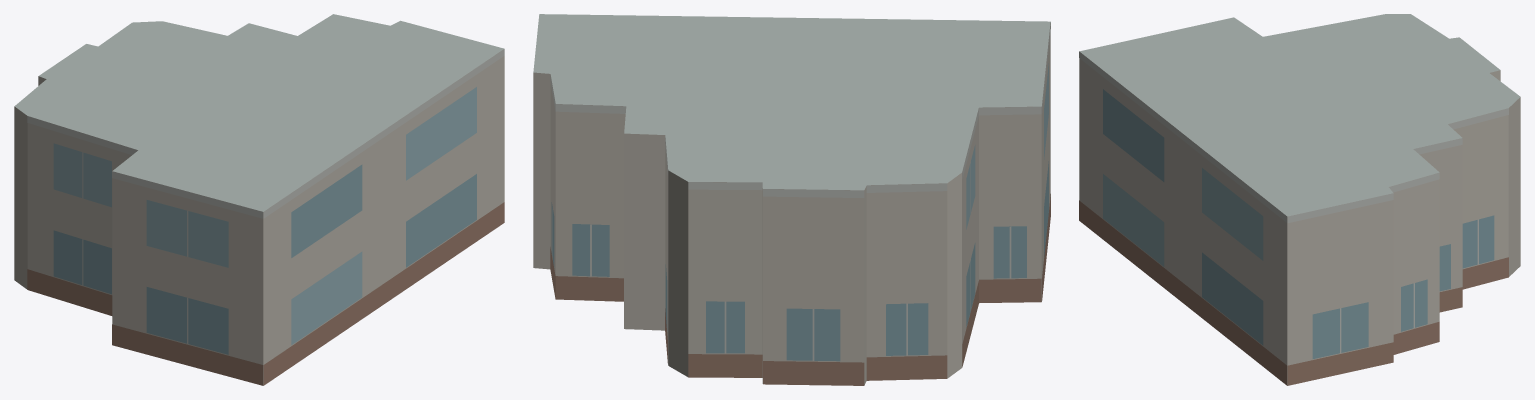
The model's file is survey-upis-32685395.glb.
3 views of the same model, side by side, from view 1: azimuth 30°, elevation 25°; view 2: azimuth 150°, elevation 25°; view 3: azimuth 270°, elevation 25° (orthographic). The views are drawn at different scales.
Parts seen in each view (by area): view 1: survey-upis-32685395.tmp; view 2: survey-upis-32685395.tmp; view 3: survey-upis-32685395.tmp.
Boxes of the visible parts, x1,y1,x2,y2 form: survey-upis-32685395.tmp: (14, 14, 504, 385); survey-upis-32685395.tmp: (533, 14, 1050, 385); survey-upis-32685395.tmp: (1079, 14, 1520, 385).
Size of the model in its own units: 15.66 by 6.1 by 14.43.
